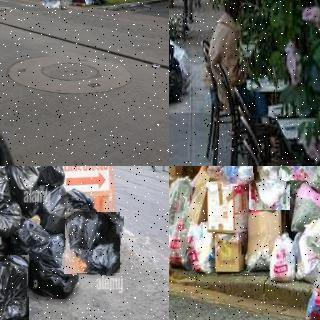Garbage: (63, 210, 122, 275), (27, 237, 79, 299), (169, 170, 193, 269), (0, 254, 29, 320), (185, 217, 218, 273), (249, 166, 290, 210), (295, 220, 320, 286), (37, 186, 71, 233), (291, 180, 320, 235), (268, 226, 296, 282), (301, 247, 320, 320), (64, 187, 97, 222), (216, 166, 275, 185), (169, 45, 185, 102), (0, 194, 22, 233), (5, 166, 38, 189), (280, 166, 318, 181), (39, 166, 63, 187), (40, 0, 61, 9), (84, 0, 93, 5), (92, 0, 101, 5), (72, 0, 86, 3)
